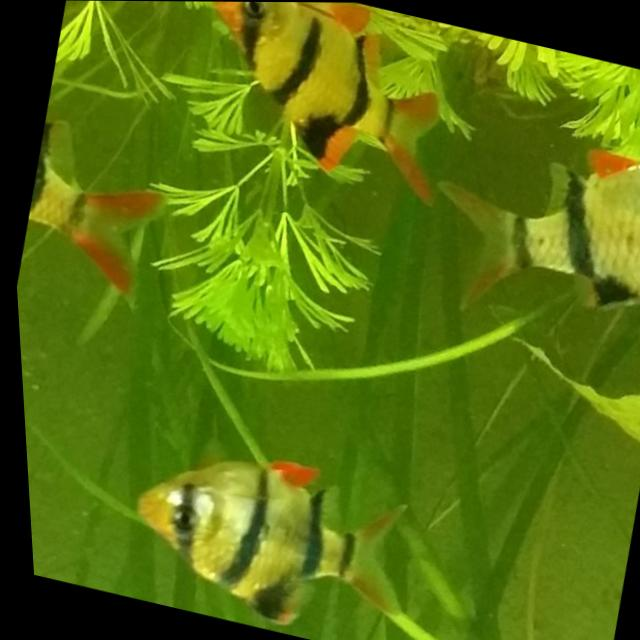fish: (94, 404, 441, 640), (161, 1, 489, 217), (398, 89, 640, 364), (2, 38, 222, 325)
